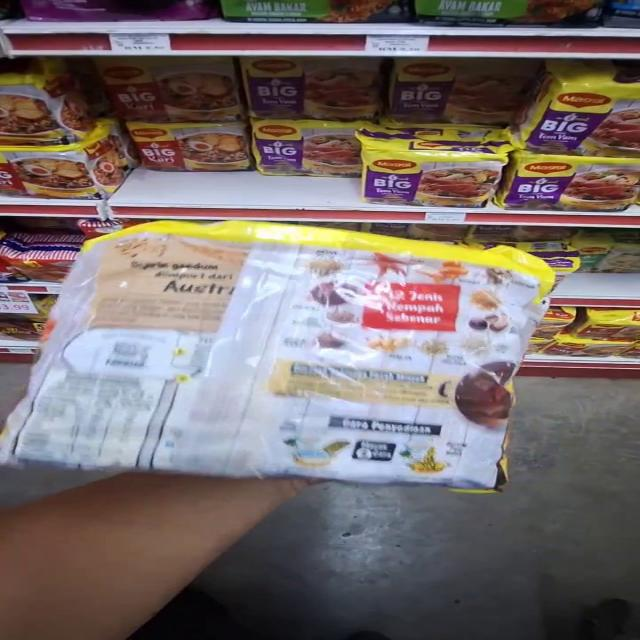Maggi: (11, 223, 546, 476), (366, 128, 499, 210), (521, 70, 640, 158), (0, 140, 139, 197), (521, 149, 640, 212), (0, 72, 101, 136), (125, 126, 256, 174), (262, 119, 363, 174)
